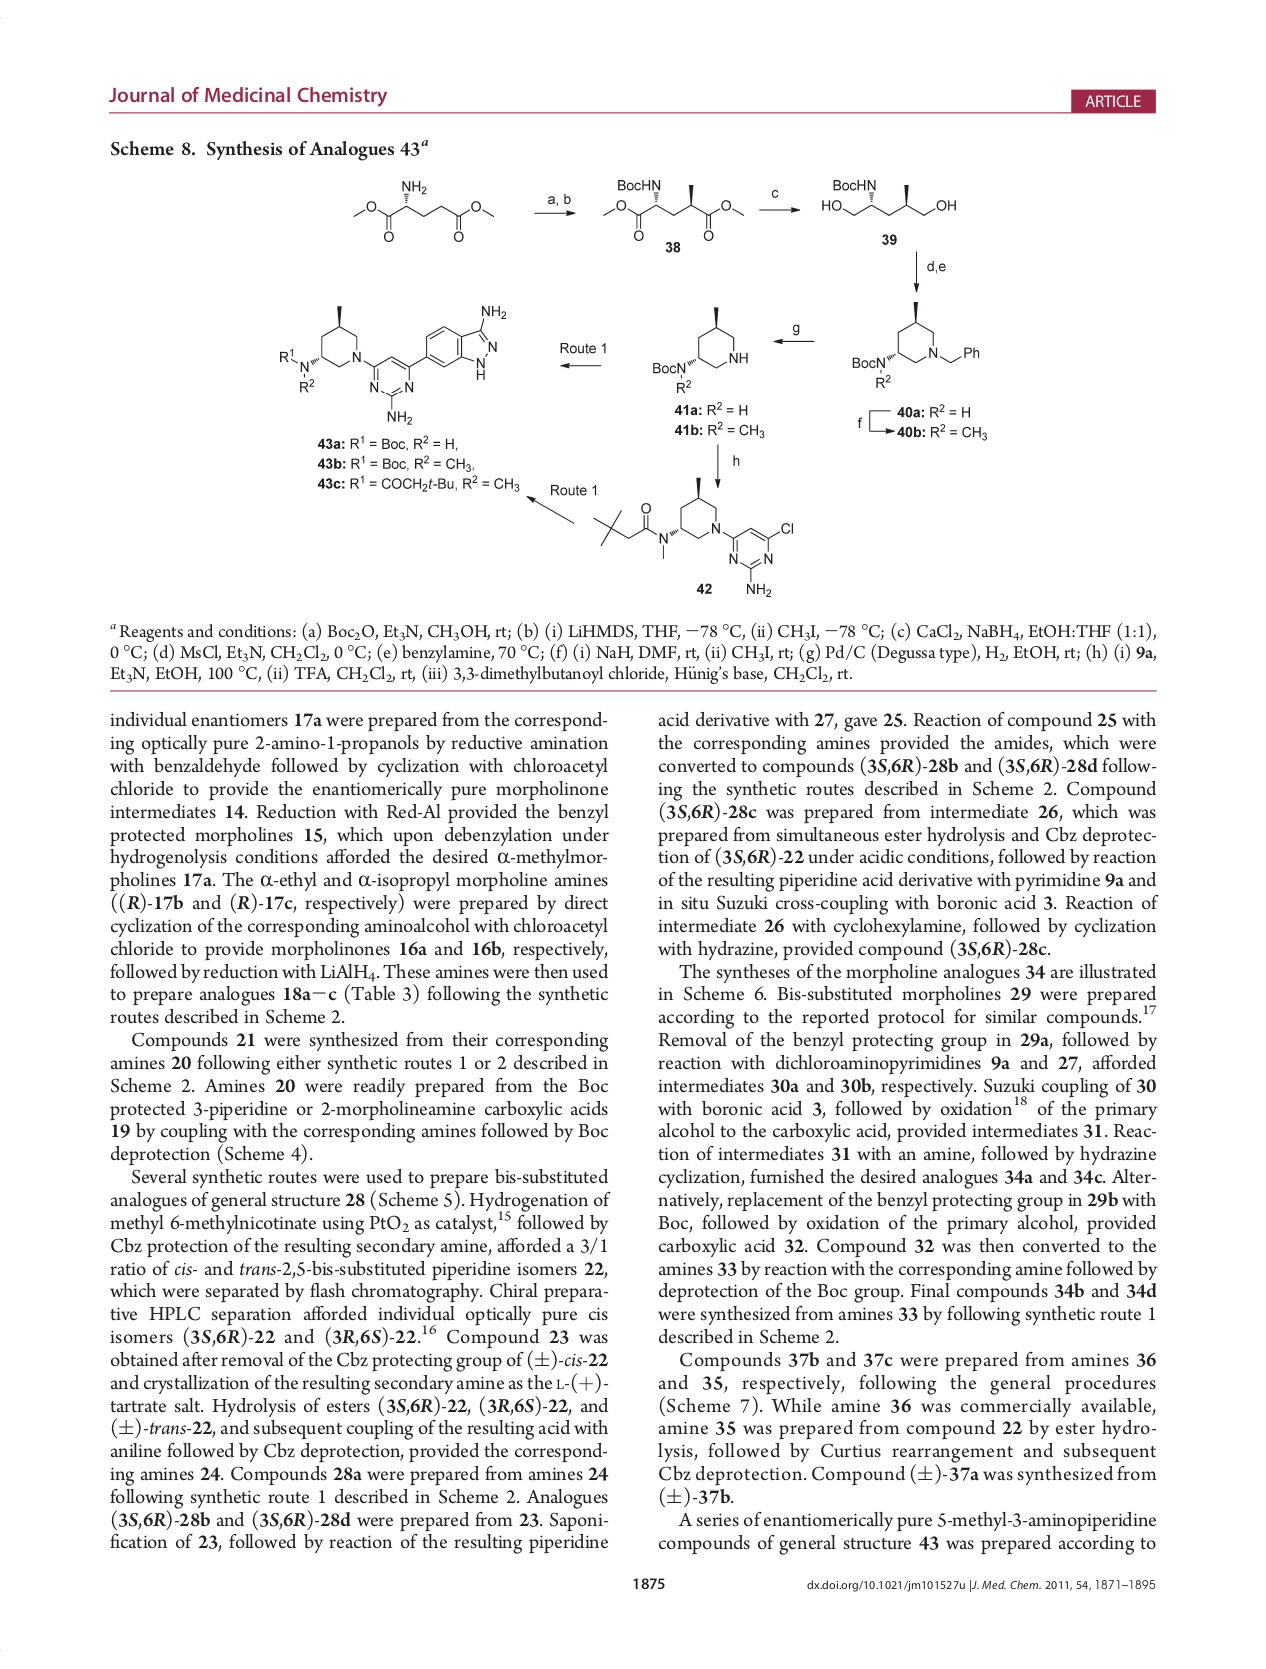exist_molecular: (270, 297, 508, 426), (590, 473, 798, 601), (848, 298, 987, 390), (340, 174, 493, 247), (641, 301, 751, 395), (596, 174, 745, 243), (817, 170, 959, 219)
